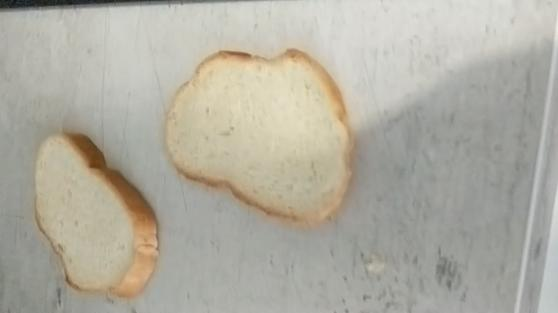white_bread: (165, 46, 360, 226), (32, 131, 165, 298)
